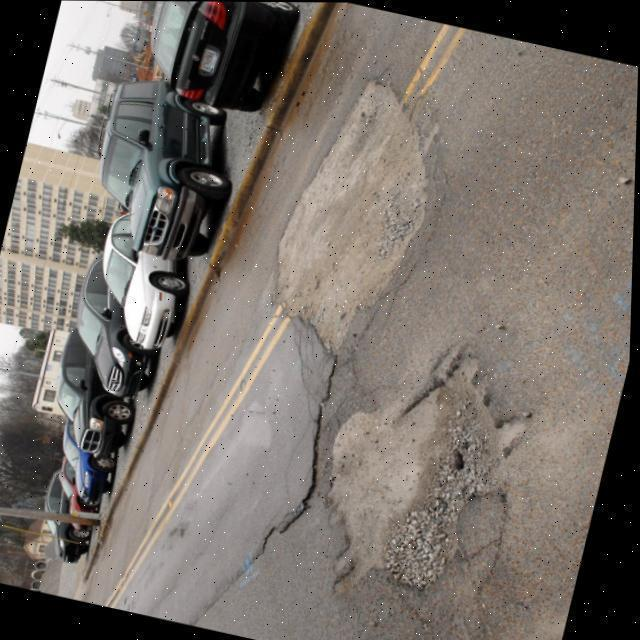Pothole: (321, 340, 539, 599), (273, 76, 430, 360)
